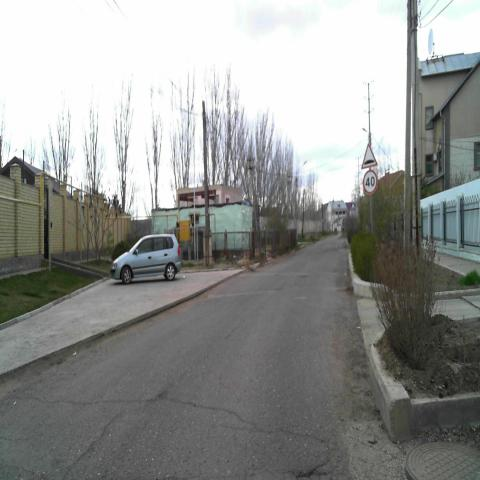1_17: (360, 141, 378, 170)
3_24: (362, 170, 378, 193)
